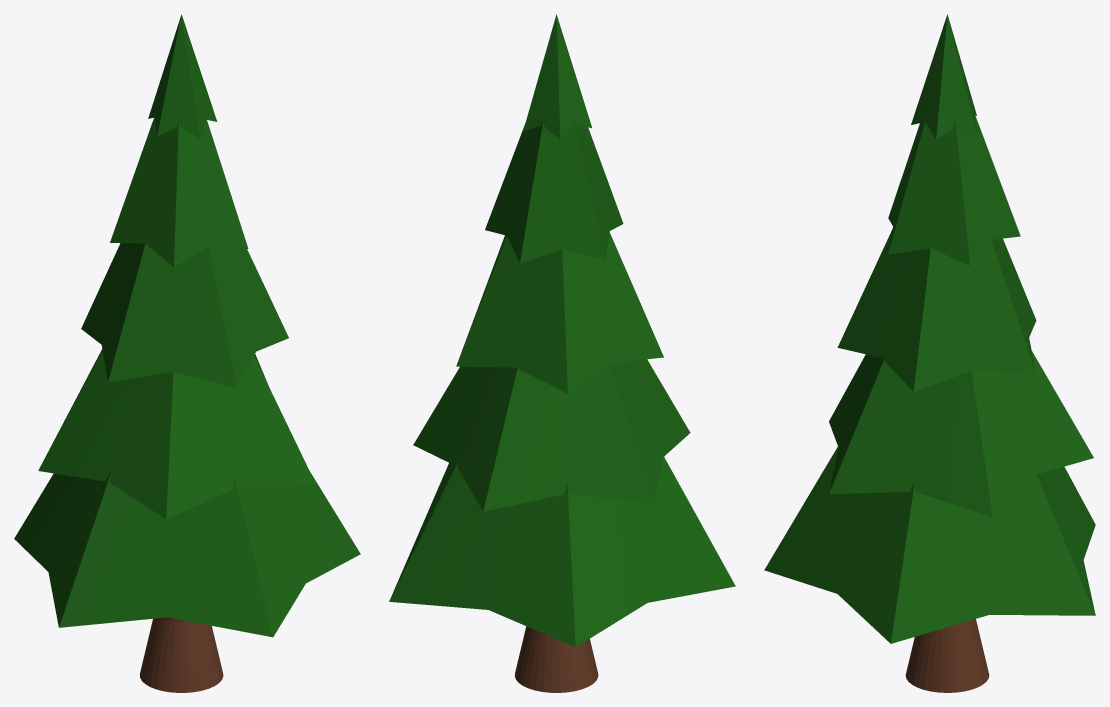
Rendered from tree-low-poly-2.glb.
The picture shows the model from 3 angles, left to right: view 1: azimuth 30°, elevation 25°; view 2: azimuth 150°, elevation 25°; view 3: azimuth 270°, elevation 25°; orthographic projection.
Parts seen in each view (by area): view 1: Cylinder, Cylinder.001; view 2: Cylinder, Cylinder.001; view 3: Cylinder, Cylinder.001.
Boxes of the visible parts, x1,y1,x2,y2 form: Cylinder: (14, 14, 360, 637); Cylinder.001: (139, 617, 223, 692); Cylinder: (389, 14, 735, 647); Cylinder.001: (514, 626, 598, 692); Cylinder: (764, 14, 1095, 643); Cylinder.001: (905, 619, 989, 692).
Size of the model in its own units: 6.17 by 12.91 by 5.87.
